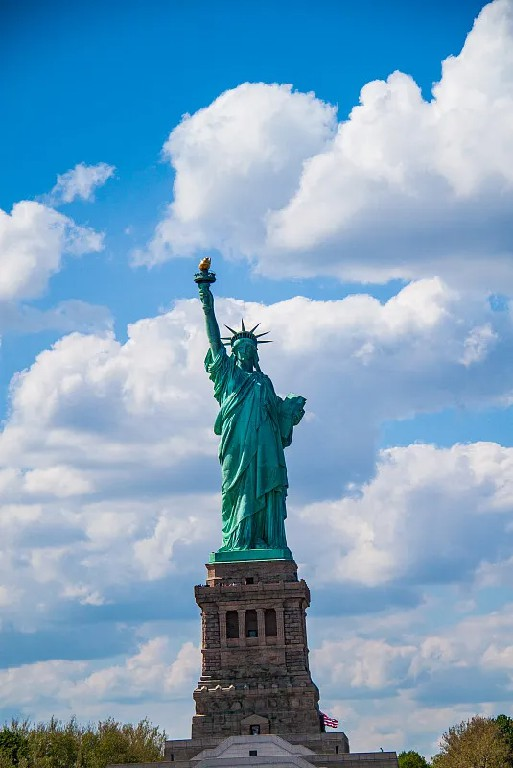SL: (190, 253, 326, 739)
